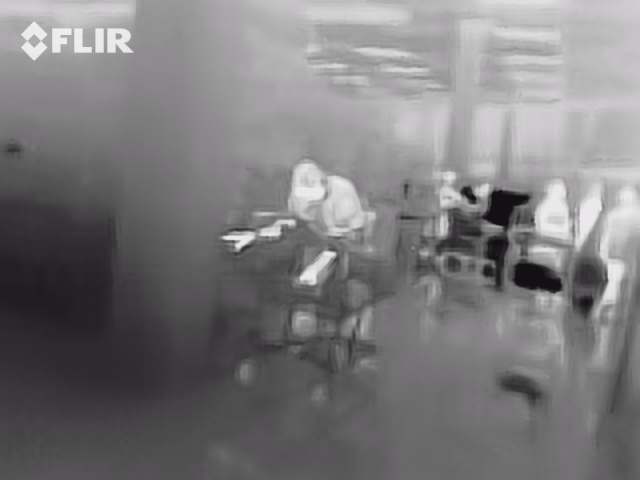head: (291, 158, 329, 205)
